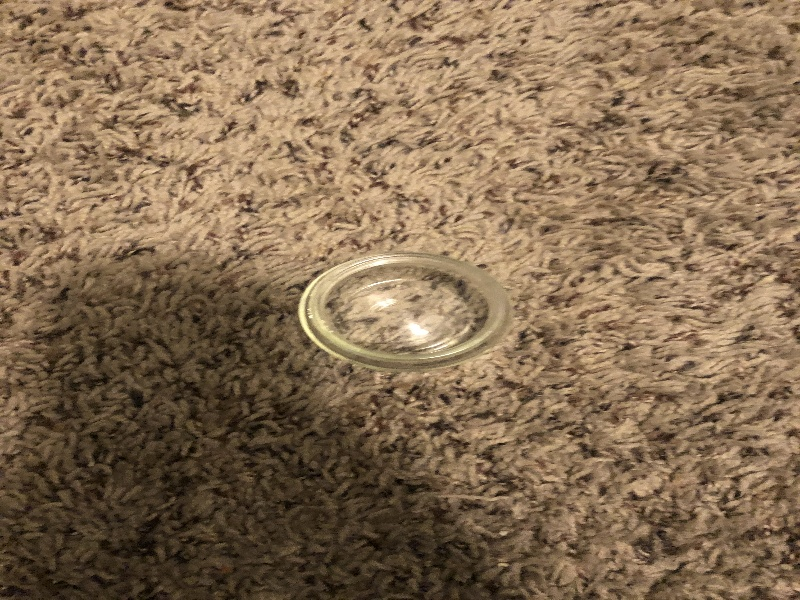glass: (294, 245, 515, 382)
